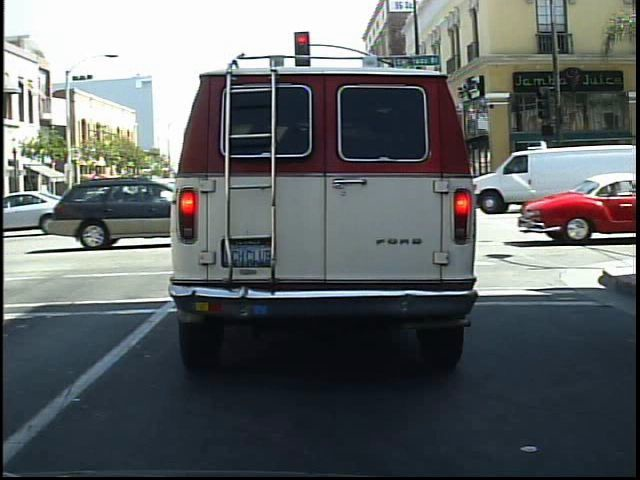person: (582, 143, 607, 210), (538, 152, 562, 210), (514, 155, 536, 207)
